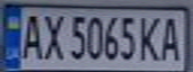0: (84, 12, 106, 61)
5: (66, 11, 87, 61), (118, 12, 139, 62)
6: (103, 14, 124, 61)
A: (157, 14, 187, 62), (18, 10, 45, 61)
K: (136, 12, 163, 62)
X: (39, 10, 66, 61)
